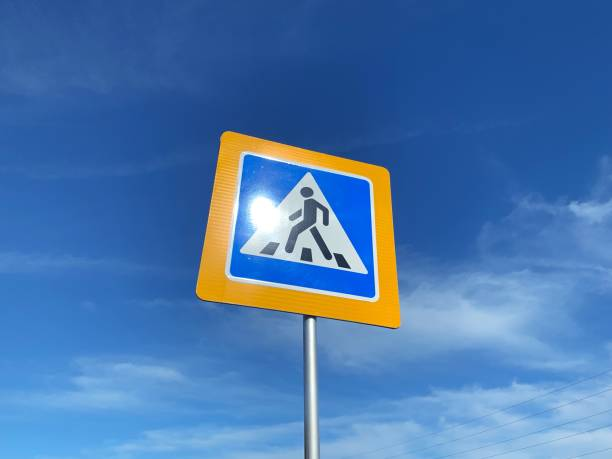pedestrian: (231, 150, 381, 303)
